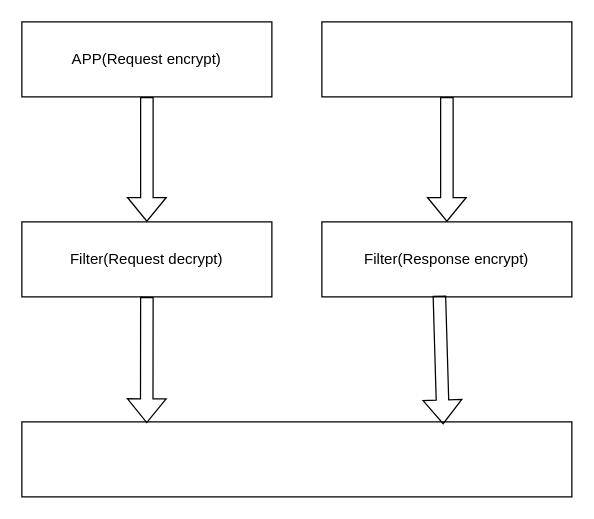
This 594x519 diagram has some shape labels left out. The centre of each missing label's shape, as x and y in pixels:
"APP(Response decrypt)" goes at pixel 446 59.
"Business processing(controller,service,dao)" goes at pixel 296 459.
